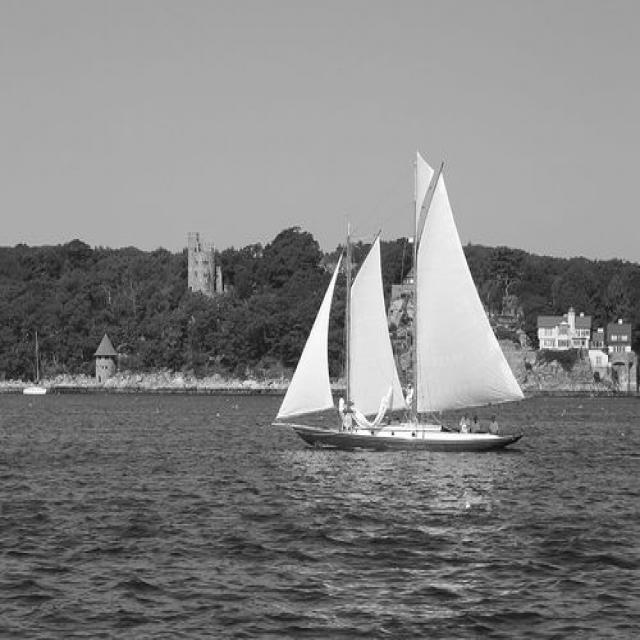Ship: (280, 161, 529, 462)
